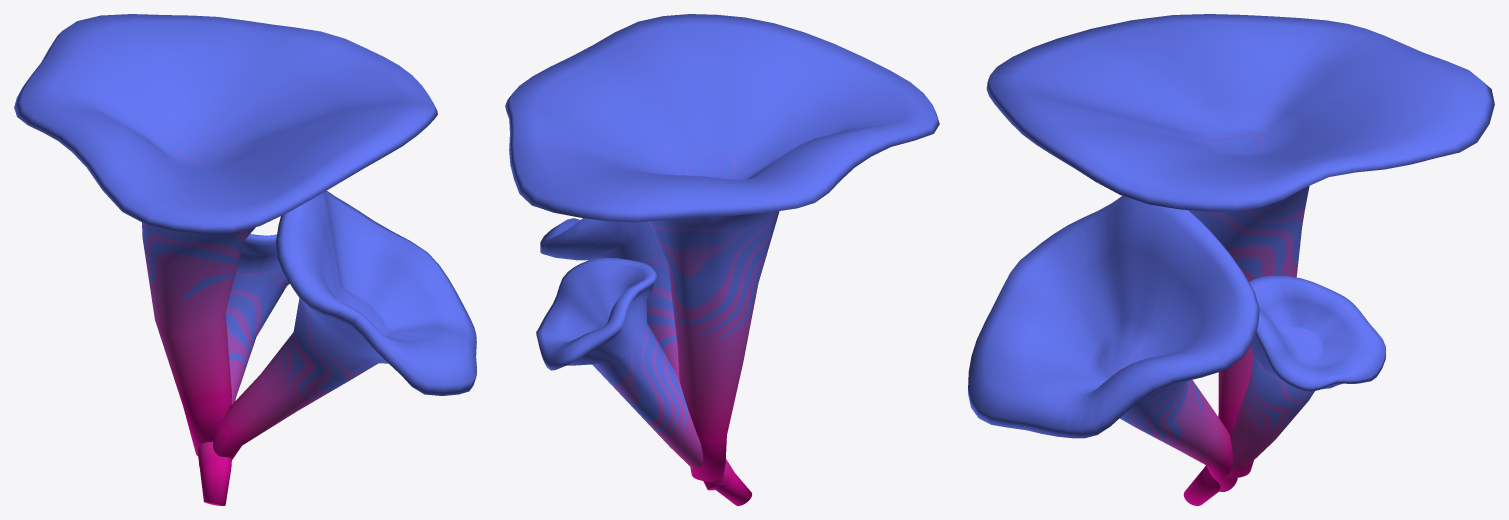
The model's file is pm_mushroom.fbx.
3 views of the same model, side by side, from view 1: azimuth 30°, elevation 25°; view 2: azimuth 150°, elevation 25°; view 3: azimuth 270°, elevation 25° (orthographic). The views are drawn at different scales.
Visible parts, largest first — view 1: Mushroom_C_Mushroom.001; view 2: Mushroom_C_Mushroom.001; view 3: Mushroom_C_Mushroom.001.
Part boxes in pixels (x1,y1,x2,y2): Mushroom_C_Mushroom.001: (14,14,476,505); Mushroom_C_Mushroom.001: (505,14,939,505); Mushroom_C_Mushroom.001: (968,14,1494,505).
Size of the model in its own units: 31.42 by 34.71 by 38.13.
1 material, 1 textured.
